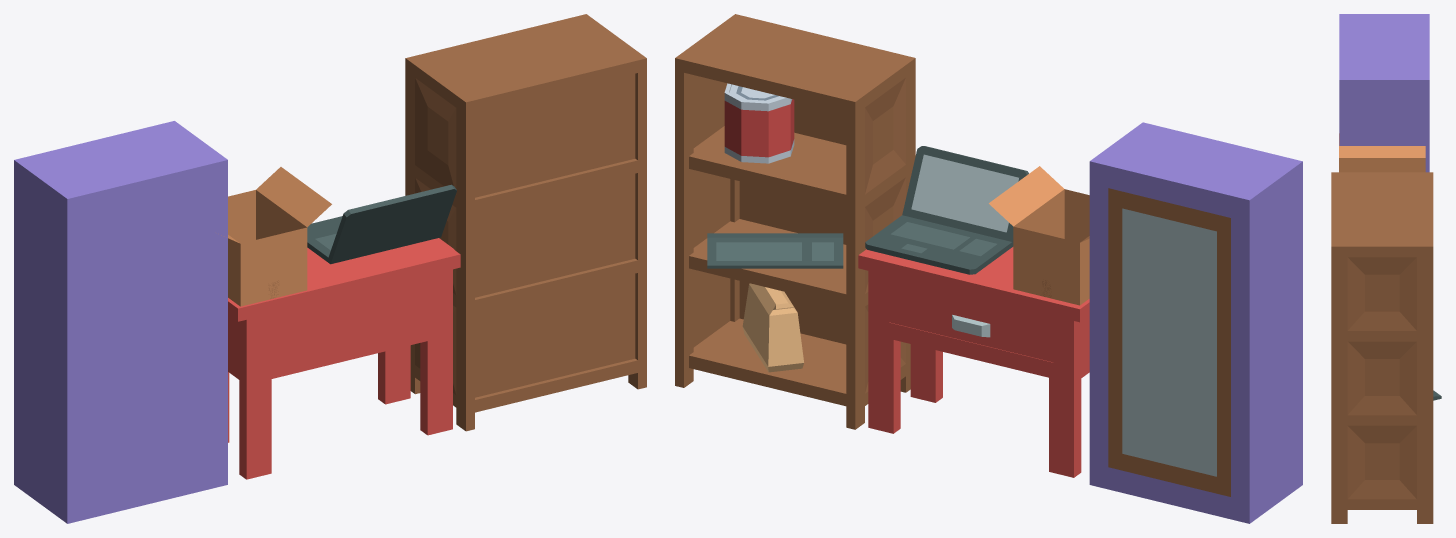
Rendered from 3ComnatsObstacleDown.fbx.
3 renders of one model, left to right at view 1: azimuth 30°, elevation 25°; view 2: azimuth 150°, elevation 25°; view 3: azimuth 270°, elevation 25°, orthographic. The views are drawn at different scales.
Parts seen in each view (by area): view 1: bookcaseClosedWide, bathroomCabinet, cabinetBedDrawerTable, cardboardBoxOpen, laptop; view 2: bathroomCabinet, bookcaseClosedWide, cabinetBedDrawerTable, laptop, cardboardBoxOpen, computerKeyboard, can, bag; view 3: bookcaseClosedWide, bathroomCabinet, cardboardBoxOpen.
Part boxes in pixels (x1=…): bookcaseClosedWide: x1=405, y1=14, x2=646, y2=431; bathroomCabinet: x1=14, y1=121, x2=227, y2=523; cabinetBedDrawerTable: x1=228, y1=238, x2=460, y2=479; cardboardBoxOpen: x1=221, y1=167, x2=331, y2=306; laptop: x1=307, y1=184, x2=456, y2=264; bathroomCabinet: x1=1089, y1=122, x2=1302, y2=523; bookcaseClosedWide: x1=675, y1=14, x2=915, y2=429; cabinetBedDrawerTable: x1=858, y1=247, x2=1089, y2=477; laptop: x1=865, y1=146, x2=1028, y2=274; cardboardBoxOpen: x1=989, y1=166, x2=1089, y2=305; computerKeyboard: x1=707, y1=233, x2=843, y2=268; can: x1=724, y1=83, x2=794, y2=163; bag: x1=742, y1=283, x2=803, y2=372; bookcaseClosedWide: x1=1331, y1=172, x2=1433, y2=523; bathroomCabinet: x1=1339, y1=14, x2=1429, y2=172; cardboardBoxOpen: x1=1339, y1=133, x2=1425, y2=172.
Bounding box in the file's own units: 27.43 × 15.01 × 5.41.
